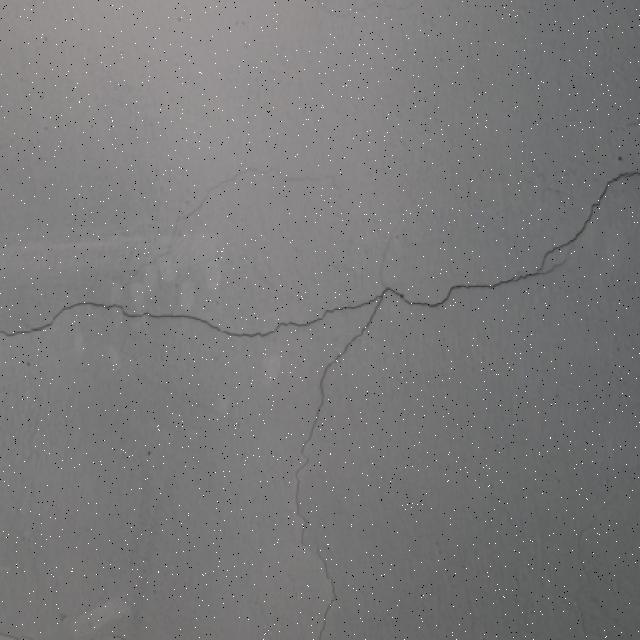minor crack: (176, 173, 264, 226), (374, 232, 402, 295)
moderate crack: (289, 283, 388, 635), (2, 293, 375, 338)
severe crack: (485, 168, 632, 288), (387, 273, 538, 310), (310, 532, 339, 636), (532, 244, 571, 276), (205, 323, 274, 339), (312, 300, 376, 316), (272, 317, 317, 329)
